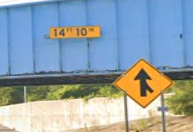0: (79, 25, 88, 38)
1: (52, 27, 58, 38), (74, 26, 79, 37)
4: (58, 26, 65, 39)
overheadsign: (49, 26, 100, 39)
